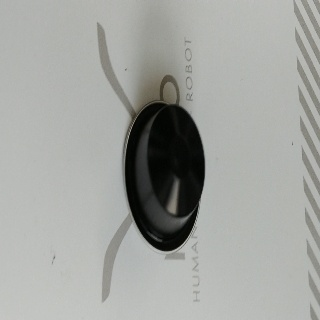capsule_10: (121, 100, 206, 255)
